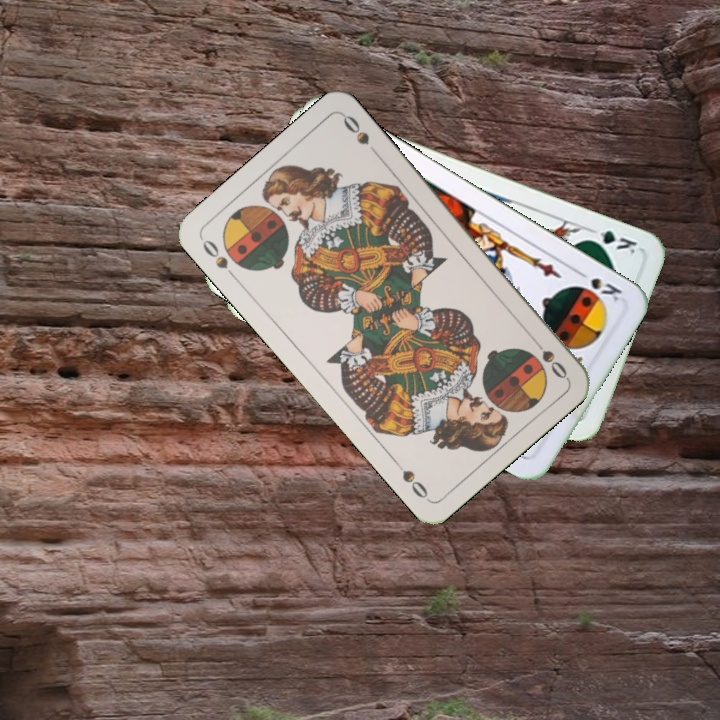GK: (582, 224, 640, 257)
SK: (572, 265, 625, 304)
SO: (526, 332, 570, 382), (197, 235, 240, 283)
